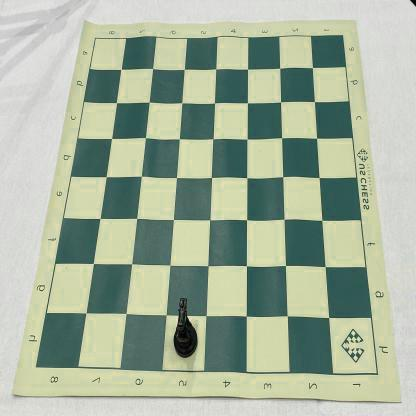black-knight: (173, 298, 198, 358)
